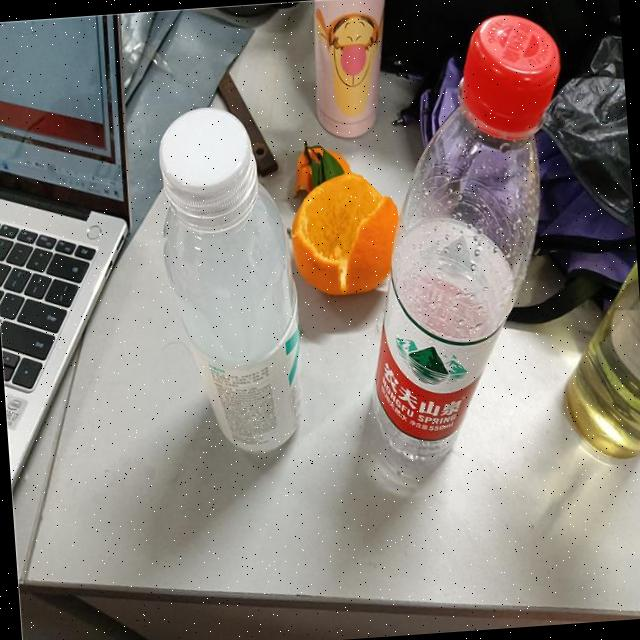orange-peel: (284, 165, 404, 299)
